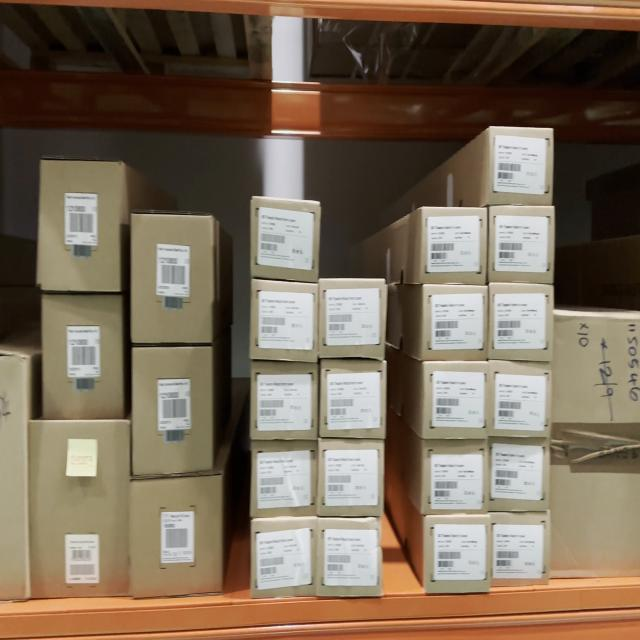box: (552, 310, 640, 576), (30, 419, 131, 600), (130, 210, 216, 346), (40, 289, 127, 421), (40, 162, 124, 294), (132, 342, 214, 474), (131, 476, 222, 592), (1, 352, 30, 602), (252, 197, 319, 283), (252, 360, 318, 443), (252, 281, 318, 363), (250, 517, 318, 596), (490, 123, 554, 206), (424, 514, 491, 593), (320, 514, 381, 597), (318, 437, 382, 516), (422, 206, 487, 283), (427, 361, 488, 443), (488, 360, 552, 437), (321, 362, 386, 436), (490, 283, 549, 363), (252, 443, 318, 514), (486, 442, 550, 514), (423, 280, 483, 356), (490, 212, 552, 284), (323, 278, 383, 352), (491, 516, 549, 585), (424, 443, 484, 508)
